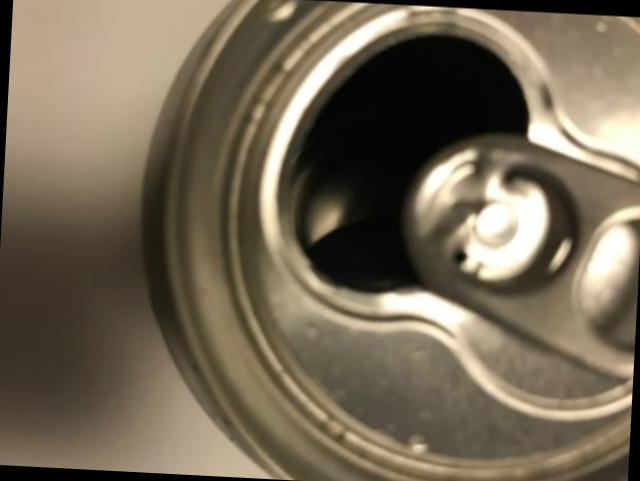metal: (145, 0, 640, 481)
